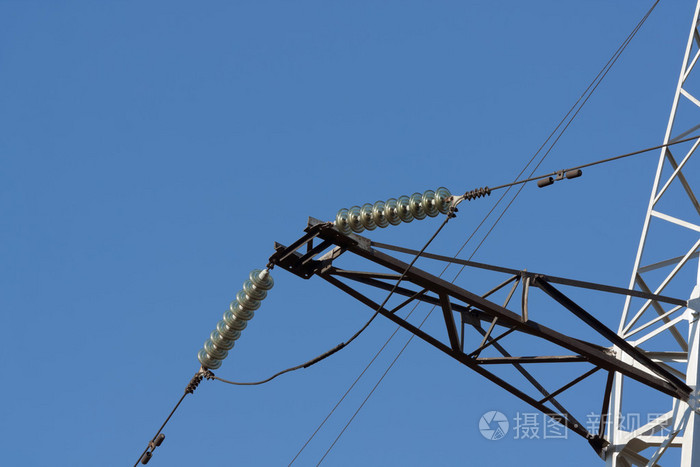insulator: (197, 268, 273, 373), (332, 186, 454, 237)
